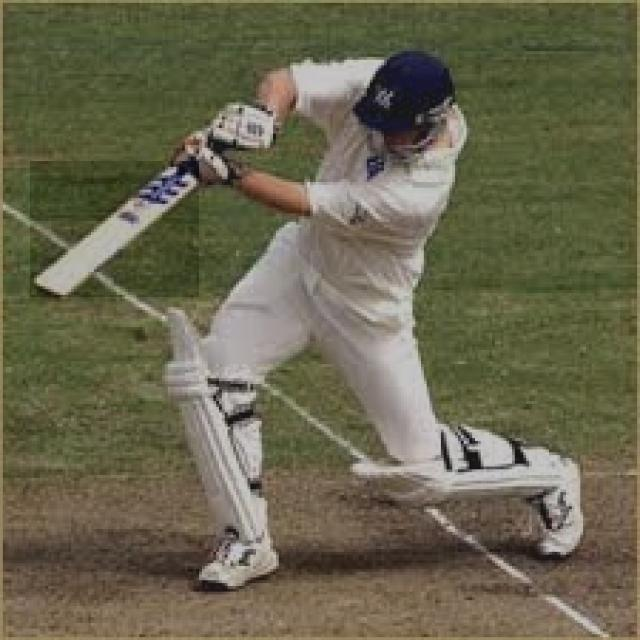bat: (29, 161, 197, 299)
toe: (24, 274, 69, 296)
